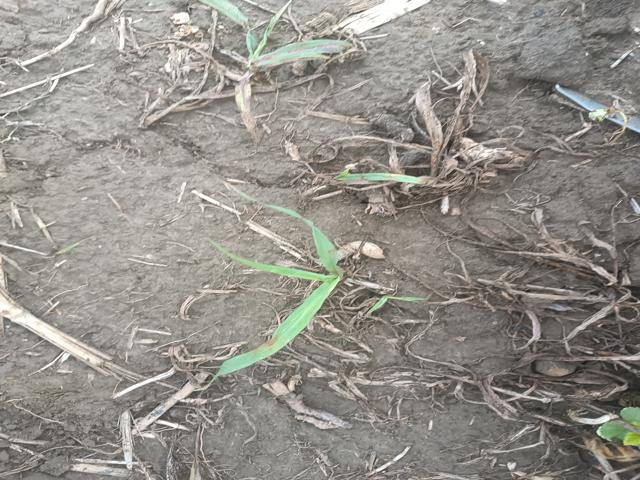bad weed: (184, 198, 337, 377), (179, 0, 350, 108), (304, 137, 440, 194), (564, 388, 640, 451), (362, 283, 436, 320)
